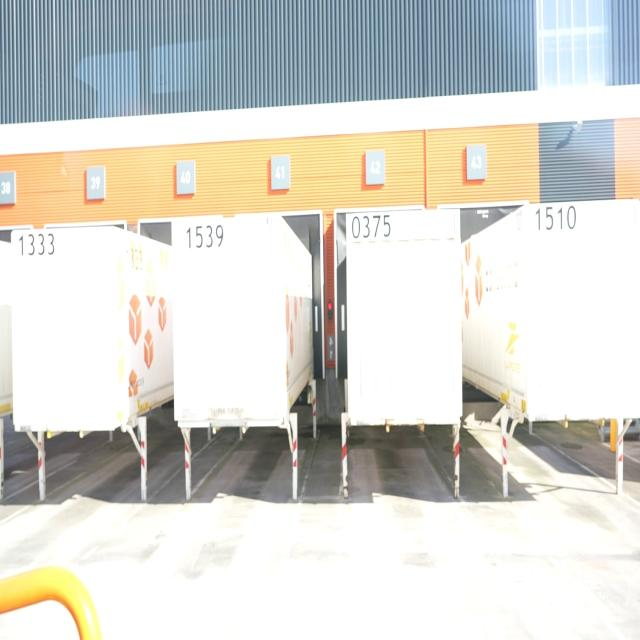Code: (179, 218, 230, 255), (530, 206, 582, 239), (349, 211, 400, 244), (13, 230, 58, 260)
